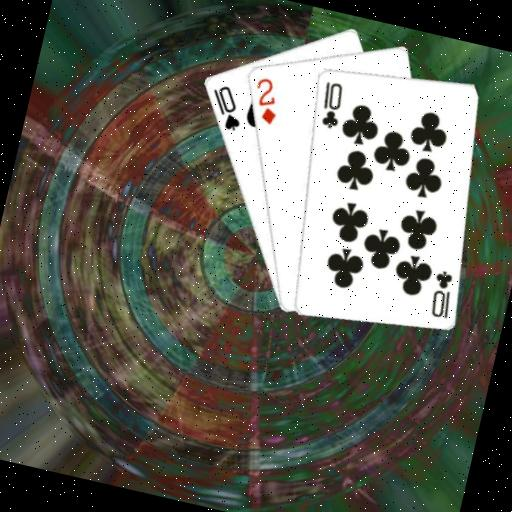10C: (424, 265, 460, 321), (312, 77, 348, 132)
10S: (202, 79, 250, 134)
2D: (245, 72, 286, 128)
